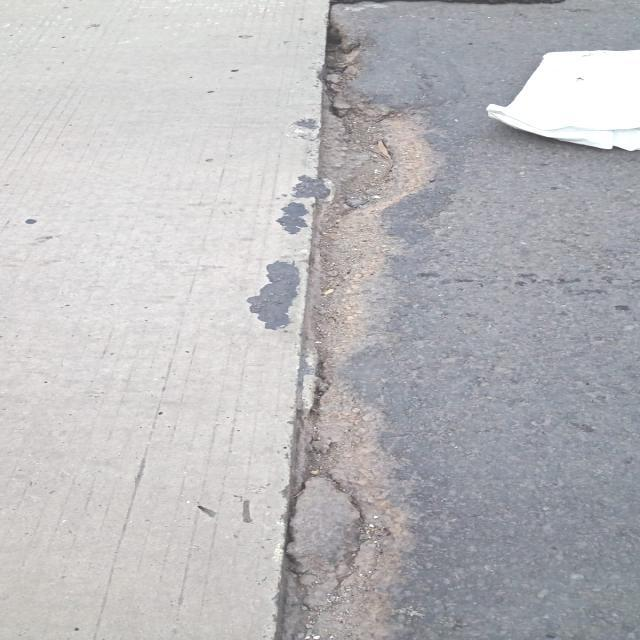Buraco: (274, 21, 450, 640)
